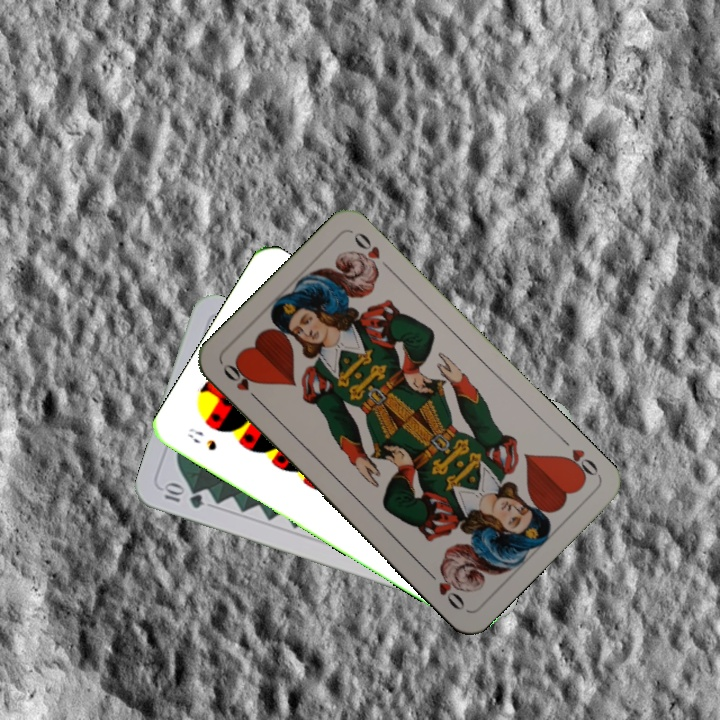G10: (160, 480, 207, 511)
HO: (556, 432, 601, 484), (219, 359, 264, 406)
S8: (184, 423, 219, 453)
